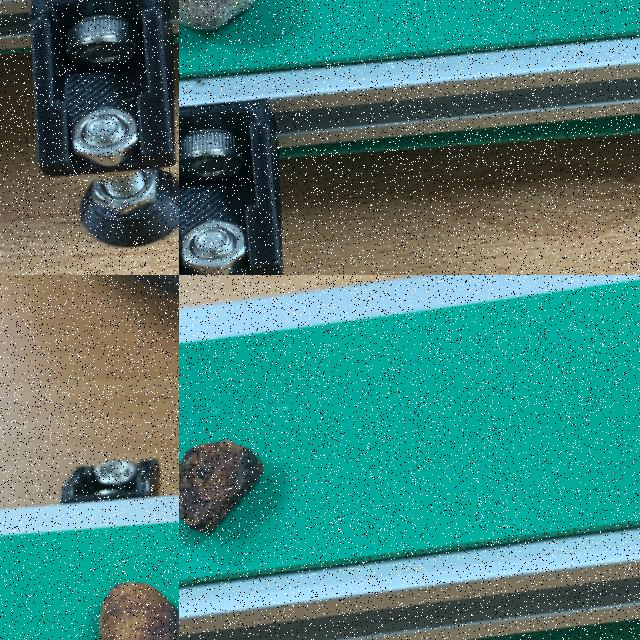Agglomerated_cocoabeans: (179, 0, 375, 99)
Fine_cocoabeans: (40, 535, 178, 639)
Flat_cocoabeans: (179, 406, 372, 590)
